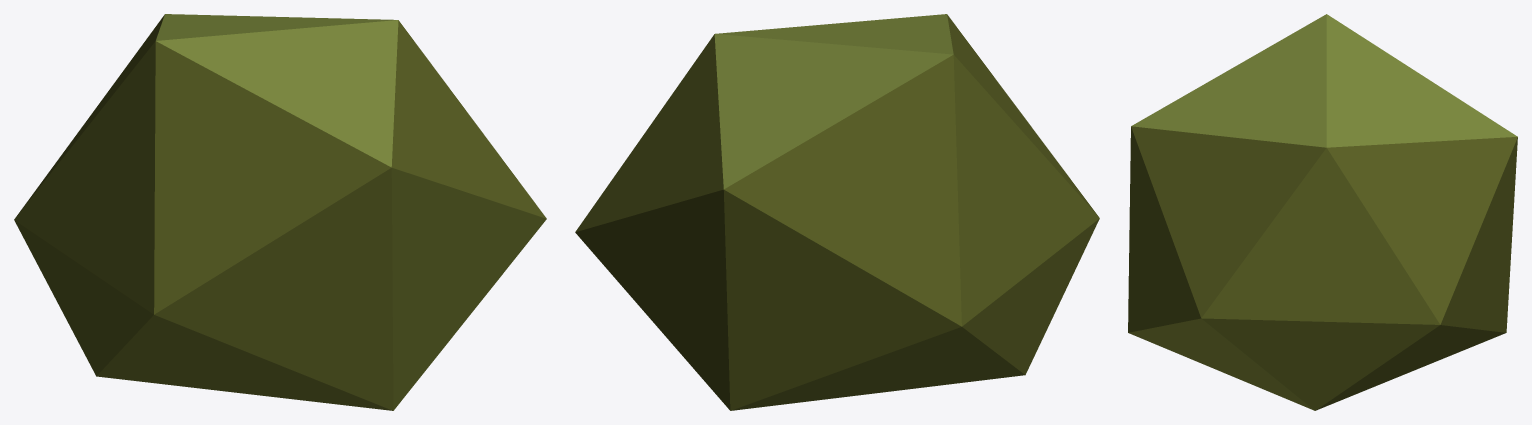
File: TB_D_Env_GrassD_A.FBX
The picture shows the model from 3 angles, left to right: view 1: azimuth 30°, elevation 25°; view 2: azimuth 150°, elevation 25°; view 3: azimuth 270°, elevation 25°; orthographic projection. The views are drawn at different scales.
Visible parts, largest first — view 1: TB_D_Env_GrassD_A; view 2: TB_D_Env_GrassD_A; view 3: TB_D_Env_GrassD_A.
Part boxes in pixels (x1,y1,x2,y2): TB_D_Env_GrassD_A: [14, 14, 546, 410]; TB_D_Env_GrassD_A: [575, 14, 1099, 410]; TB_D_Env_GrassD_A: [1128, 14, 1517, 410].
Bounding box in the file's own units: 1.26 × 0.9639 × 1.27.
